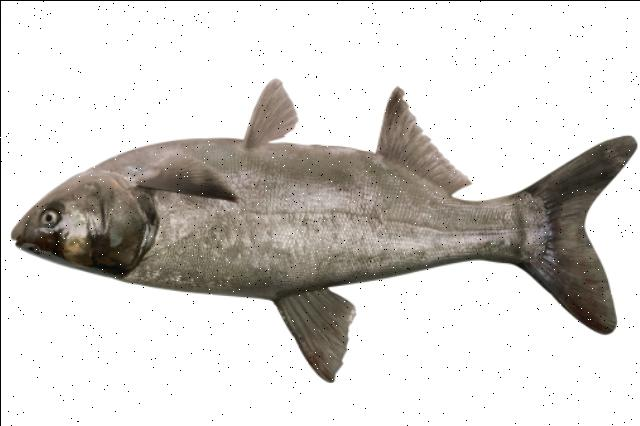Mulut: (2, 200, 48, 264)
Sirip Anal: (374, 76, 468, 200)
Sirip Dada: (134, 146, 238, 202)
Sirip Ekor: (526, 130, 640, 334)
Sirip Perut: (235, 66, 303, 152)
Sirip Punggung: (274, 285, 364, 391)
